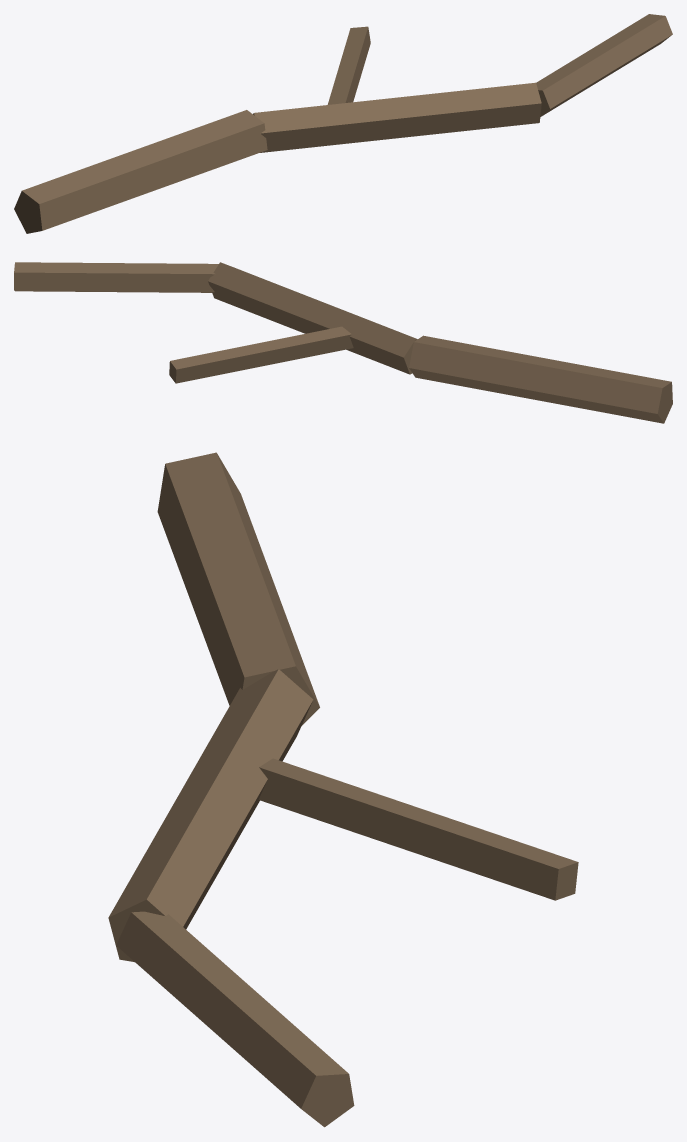
Rendered from twig.glb.
3 views of the same model, one above another, from view 1: azimuth 30°, elevation 25°; view 2: azimuth 150°, elevation 25°; view 3: azimuth 270°, elevation 25° (orthographic). The views are drawn at different scales.
Visible parts, largest first — view 1: twig; view 2: twig; view 3: twig.
Boxes of the visible parts, <box> form: twig: <box>14,14,672,233</box>; twig: <box>14,262,672,423</box>; twig: <box>108,452,578,1127</box>.
Size of the model in its own units: 0.5477 by 0.036 by 0.1779.
